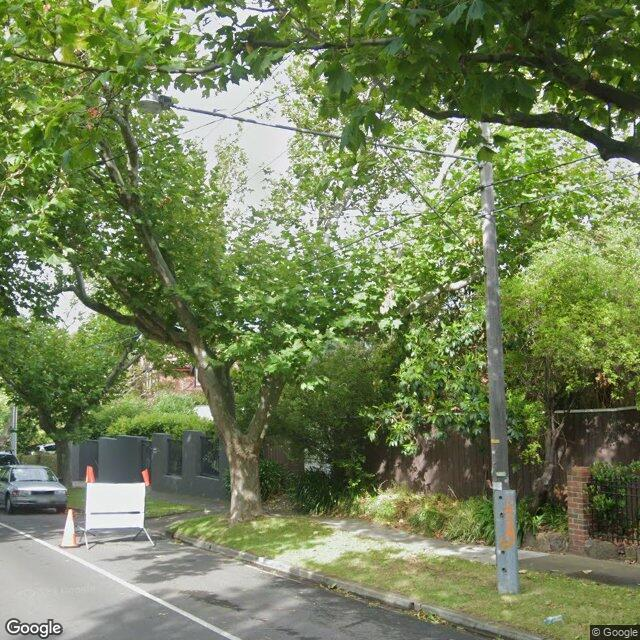streetlight: (136, 95, 480, 164)
timber-pole: (481, 120, 518, 596)
